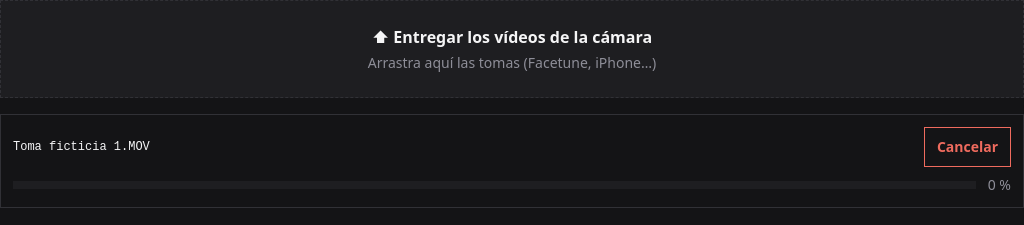
Test: EntregaTomas › cancela una subida en curso con su señal
Earlier steps of the test are not shown.
Click the button with aria-label "Cancelar la subida de Toma ficticia 1.MOV". click: point(967, 147)
box: [924,127,1011,167]
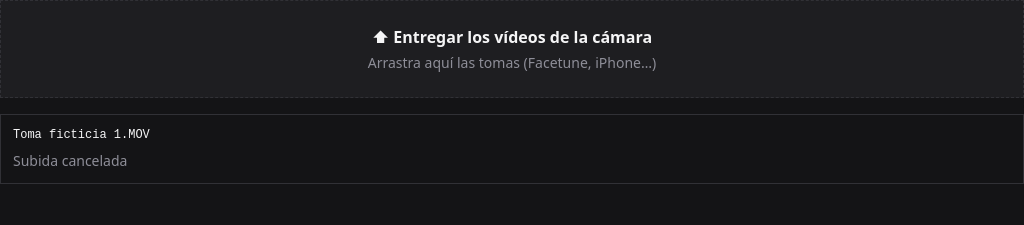
Check: the text "Subida cancelada" is shown, box [13,151,127,170]
